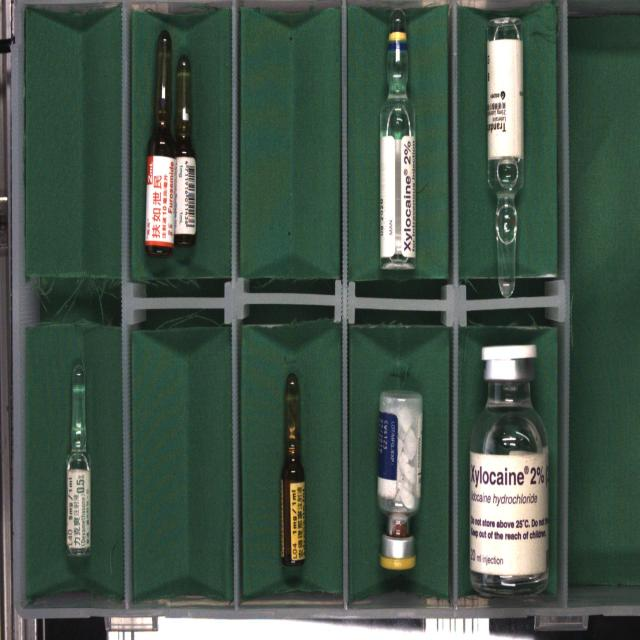Vials: (470, 345, 549, 595), (377, 391, 422, 570)
